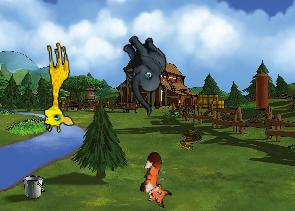elephant: (100, 27, 188, 116)
fox: (134, 150, 181, 209)
giraffe: (35, 41, 75, 133)
